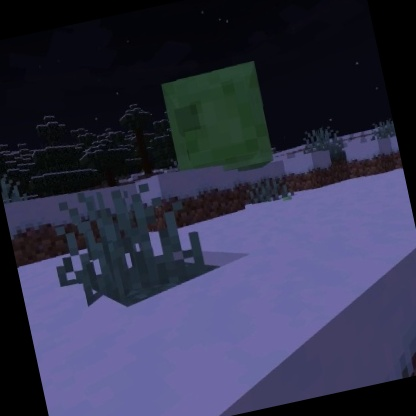slime: (155, 55, 283, 187)
